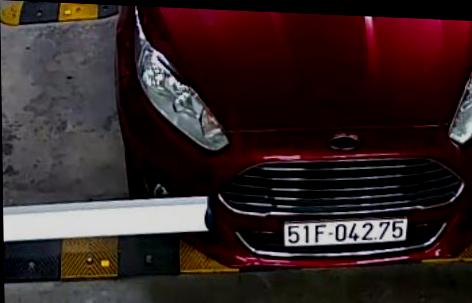License_Plate: (278, 205, 418, 260)
